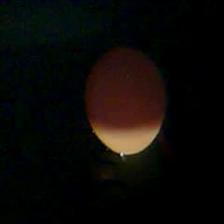fertile: (81, 38, 169, 160)
